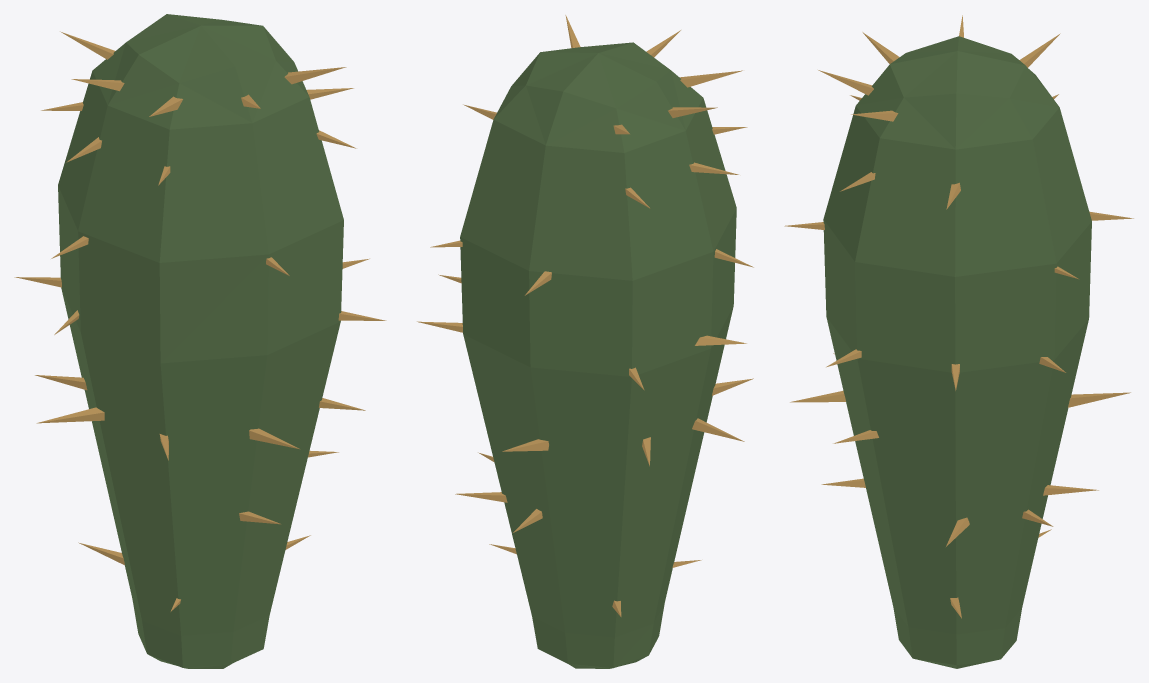
The model's file is Cactus_3.glb.
The picture shows the model from 3 angles, left to right: view 1: azimuth 30°, elevation 25°; view 2: azimuth 150°, elevation 25°; view 3: azimuth 270°, elevation 25°; orthographic projection. The views are drawn at different scales.
Visible parts, largest first — view 1: Cactus_3; view 2: Cactus_3; view 3: Cactus_3.
Boxes of the visible parts, x1,y1,x2,y2 form: Cactus_3: (14,14,386,668); Cactus_3: (417,15,753,668); Cactus_3: (784,15,1133,668).
Size of the model in its own units: 0.3937 by 0.7217 by 0.382.
